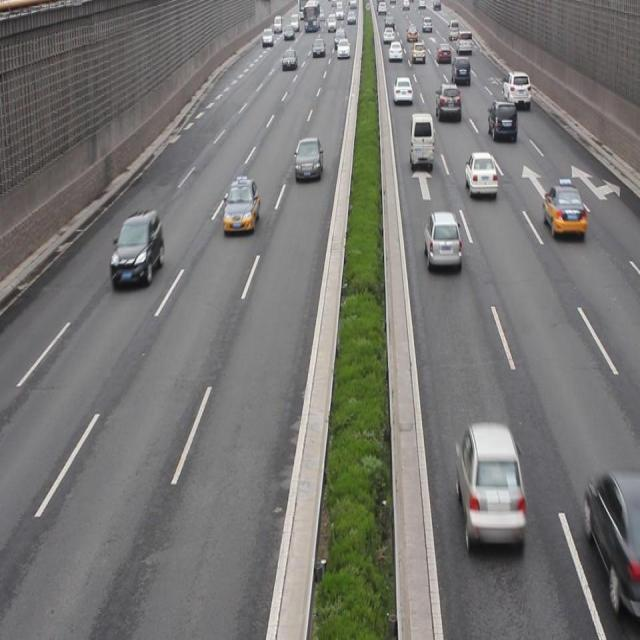car: (457, 426, 524, 551), (583, 470, 640, 610), (109, 213, 166, 286), (540, 184, 584, 239), (422, 214, 462, 274), (224, 174, 260, 238), (464, 152, 497, 202), (487, 100, 516, 143), (294, 138, 322, 178)
truck: (408, 112, 434, 172)
